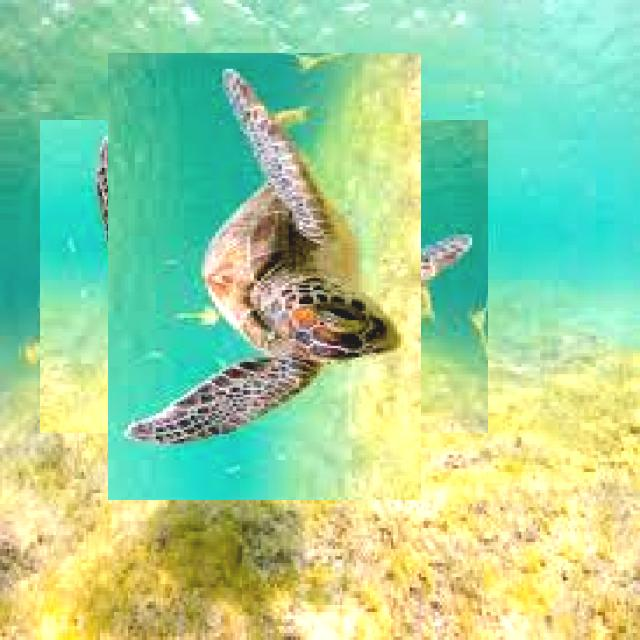Sea turtle: (74, 86, 455, 467)
